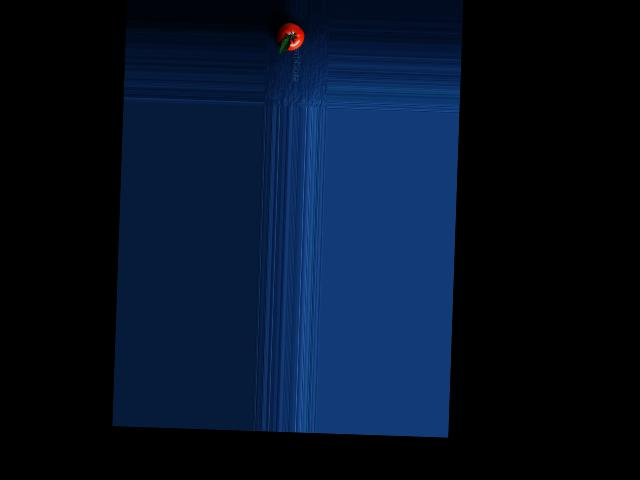tomato: (276, 22, 304, 51)
